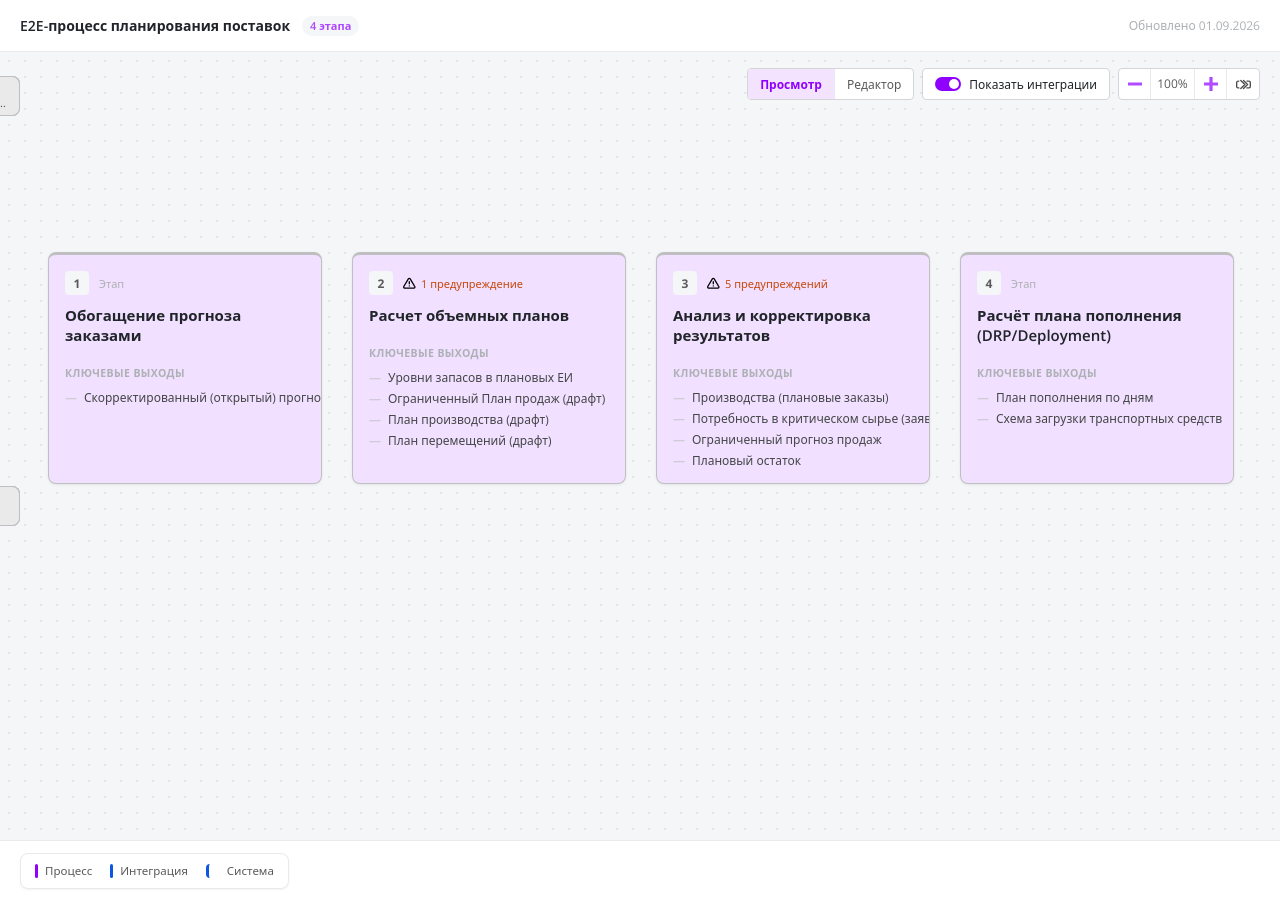
до импорта › в редакторе есть «Импорт BPMN», но нет ни отчёта, ни возврата, ни бейджа
Click the button "Редактор" at point(874, 84), box left=835, top=69, right=913, bottom=99
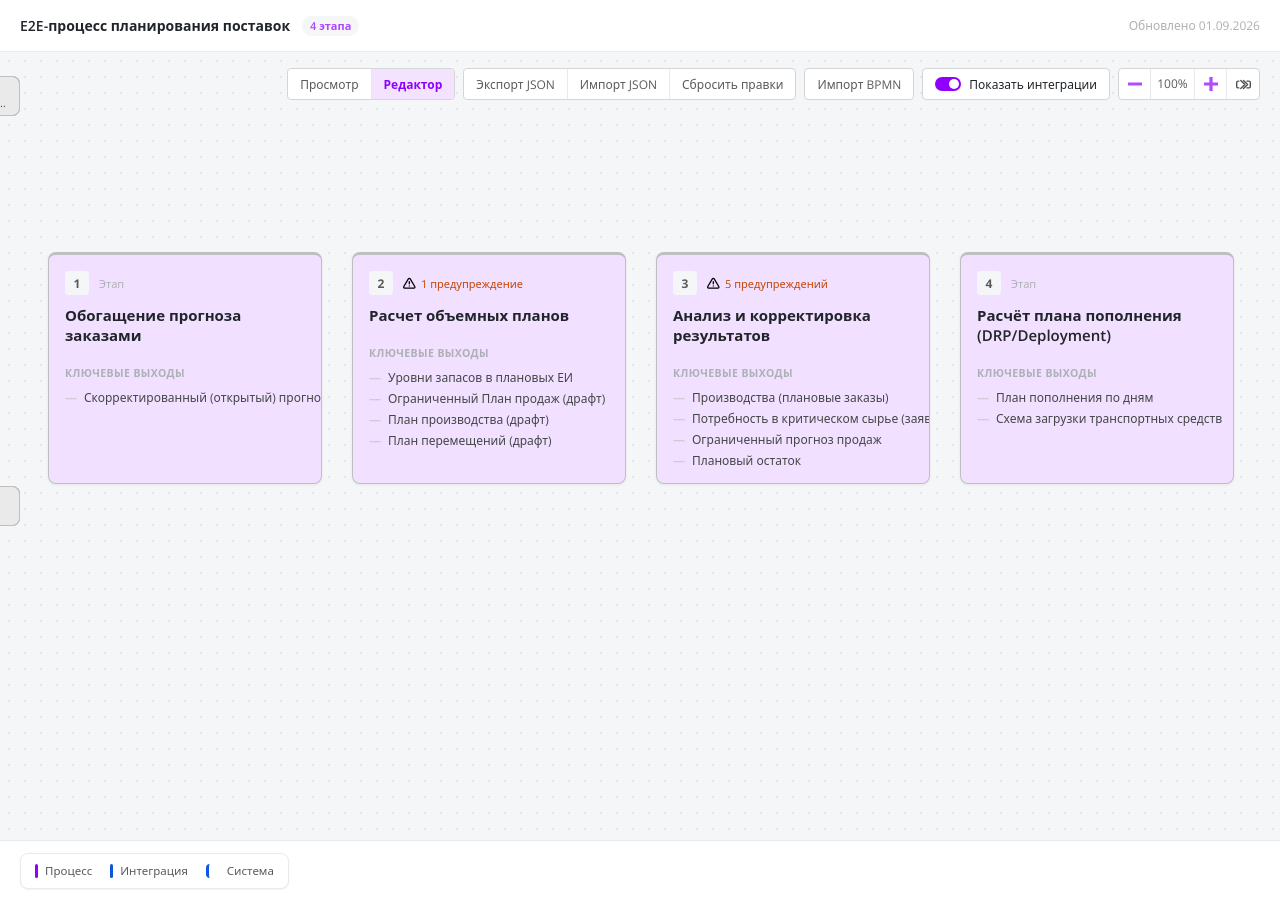
Expected: the button "Импорт BPMN" is shown, left=806, top=69, right=913, bottom=99
